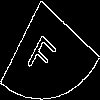F: (25, 25, 62, 80)
